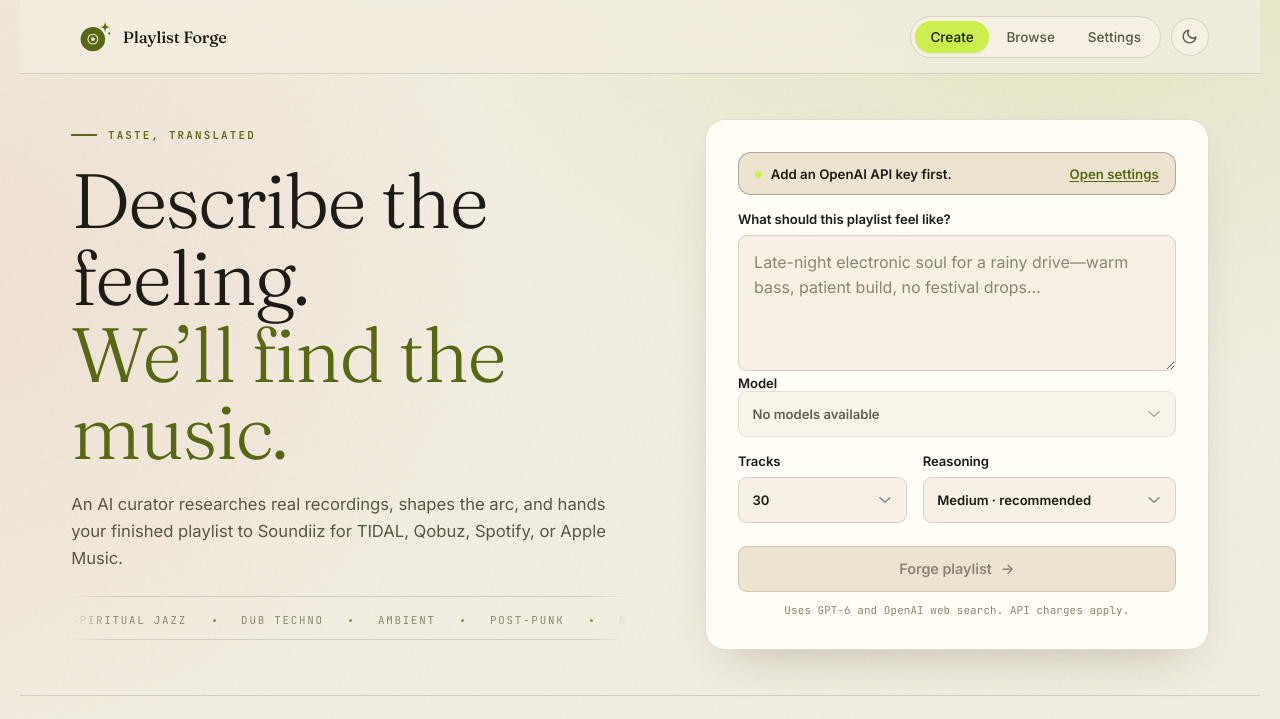
Test: App › opens a playlist preview from a Browse row
The image size is (1280, 719).
Click the button "Browse".
click(1031, 36)  # box [991,20,1070,52]
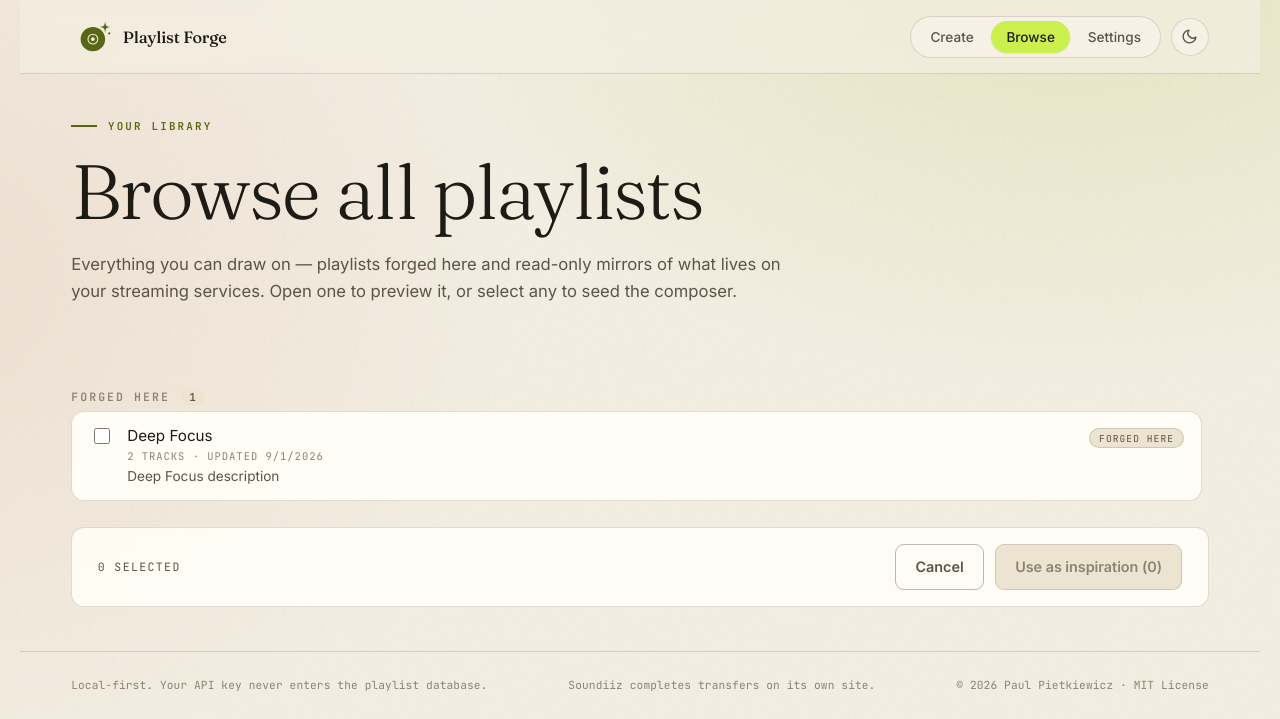
Click the button "Deep Focus".
click(170, 435)  # box [127,426,1075,486]
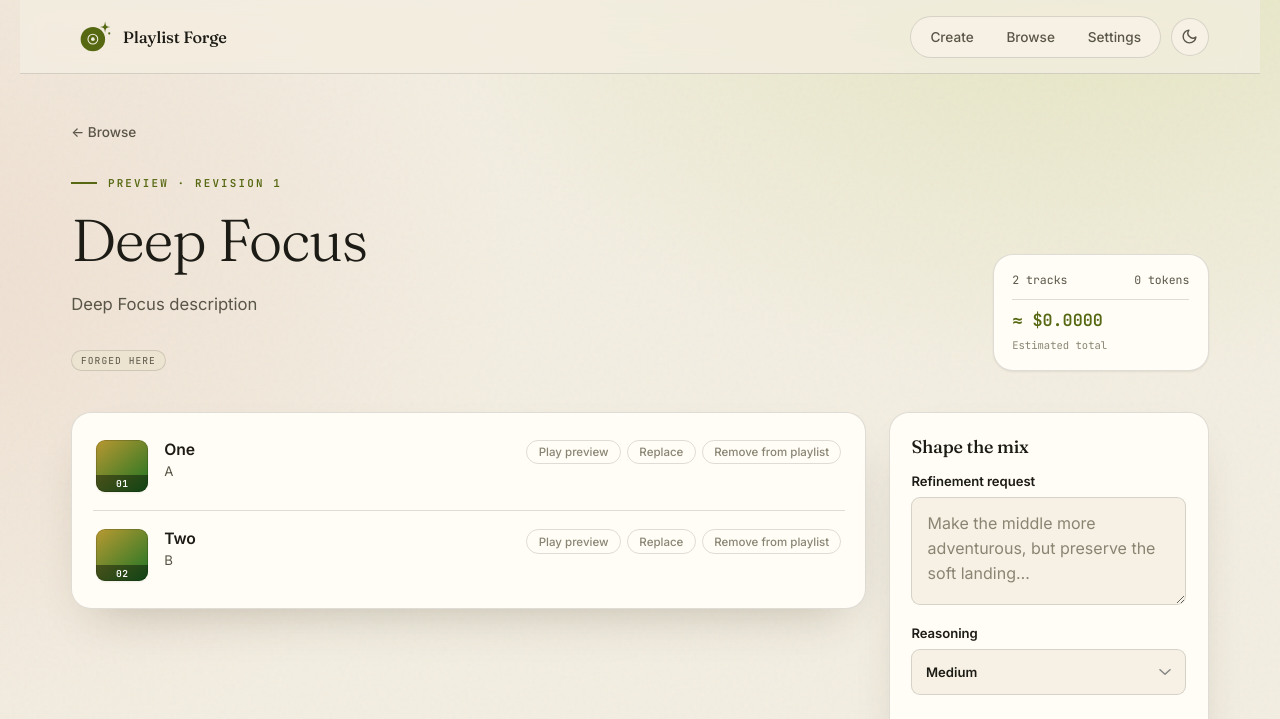
Check: the heading "Deep Focus" is shown, box [71,211,367,270]
